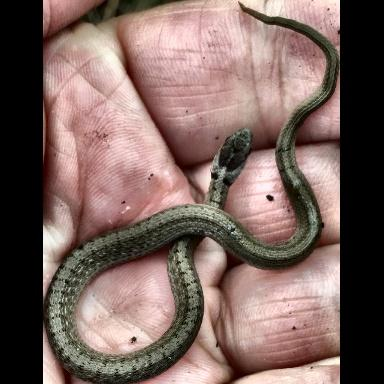snake: (48, 40, 340, 384)
